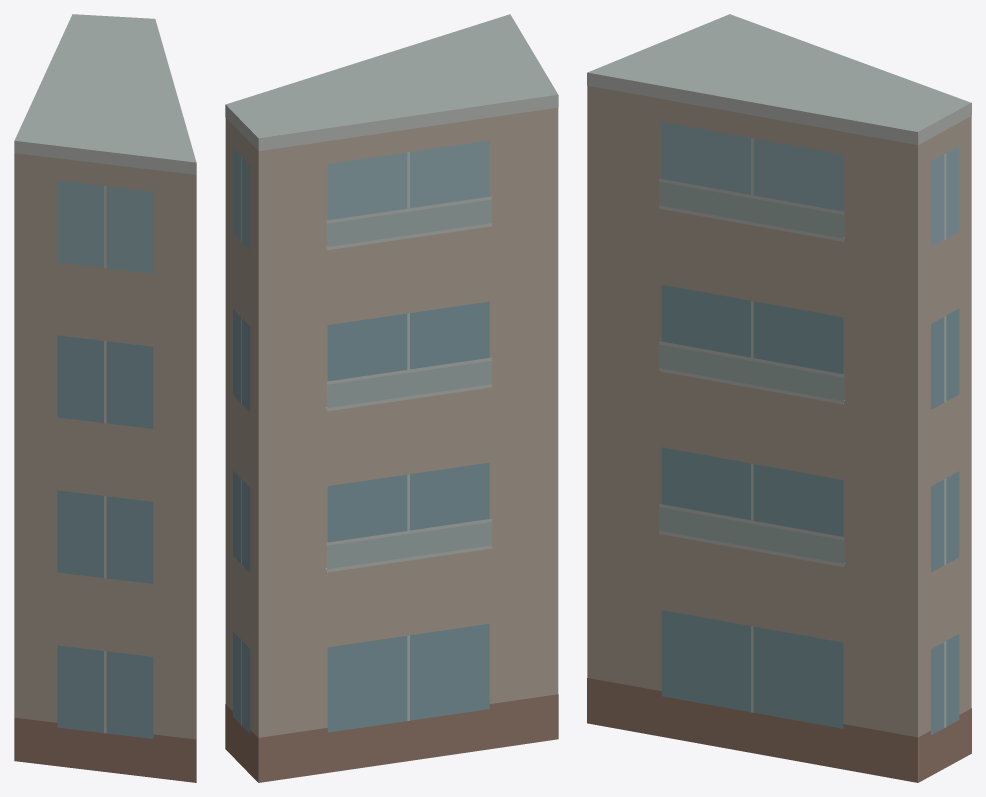
The model's file is survey-upis-32758175.glb.
3 renders of one model, left to right at view 1: azimuth 30°, elevation 25°; view 2: azimuth 150°, elevation 25°; view 3: azimuth 270°, elevation 25°, orthographic. The views are drawn at different scales.
Visible parts, largest first — view 1: survey-upis-32758175.tmp; view 2: survey-upis-32758175.tmp; view 3: survey-upis-32758175.tmp.
Boxes of the visible parts, box(x1,y1,x2,y2) form: survey-upis-32758175.tmp: box(14, 14, 196, 782); survey-upis-32758175.tmp: box(225, 14, 558, 782); survey-upis-32758175.tmp: box(587, 14, 971, 782).
Size of the model in its own units: 4.76 by 12.2 by 6.54.
